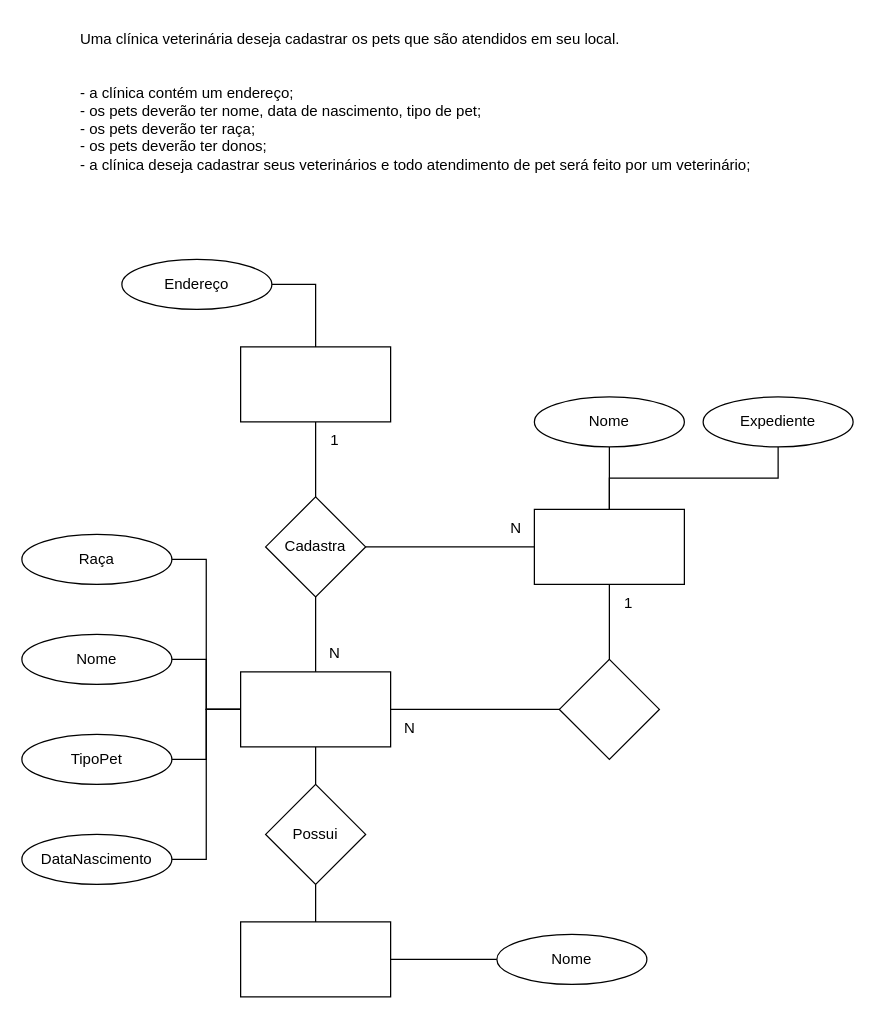
Some shapes in this 875 by 1019 pixel diagram are drawn without their labels. The shapes that lost their labels are listed below. From the top down, each one's centre as x and y in pixels, then its label:
[315,384]: Clínica
[608,546]: Veterinario
[315,709]: Pets
[608,708]: Atende
[315,959]: Cliente
